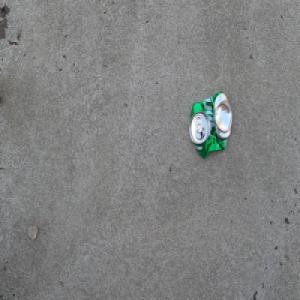SodaCan: (187, 91, 232, 159)
